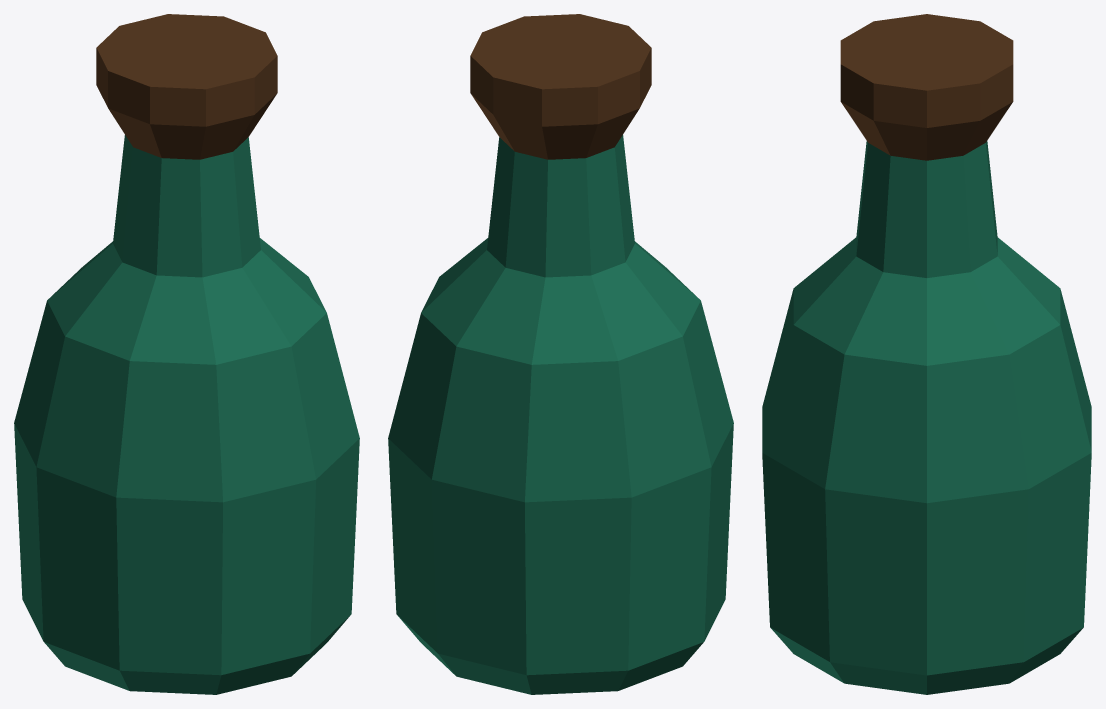
Rendered from bottle_family__basis.obj.
The picture shows the model from 3 angles, left to right: view 1: azimuth 30°, elevation 25°; view 2: azimuth 150°, elevation 25°; view 3: azimuth 270°, elevation 25°; orthographic projection.
Parts seen in each view (by area): view 1: ITEM_Bottle_Family.001_MAT_GlassEmerald, ITEM_Bottle_Family.001_MAT_Cork; view 2: ITEM_Bottle_Family.001_MAT_GlassEmerald, ITEM_Bottle_Family.001_MAT_Cork; view 3: ITEM_Bottle_Family.001_MAT_GlassEmerald, ITEM_Bottle_Family.001_MAT_Cork.
Boxes of the visible parts, bbox=[...] form: ITEM_Bottle_Family.001_MAT_GlassEmerald: bbox=[14, 135, 359, 694]; ITEM_Bottle_Family.001_MAT_Cork: bbox=[96, 14, 277, 159]; ITEM_Bottle_Family.001_MAT_GlassEmerald: bbox=[388, 135, 733, 694]; ITEM_Bottle_Family.001_MAT_Cork: bbox=[470, 14, 651, 159]; ITEM_Bottle_Family.001_MAT_GlassEmerald: bbox=[762, 141, 1091, 694]; ITEM_Bottle_Family.001_MAT_Cork: bbox=[840, 14, 1013, 160].
Size of the model in its own units: 0.84 by 1.56 by 0.7989.
